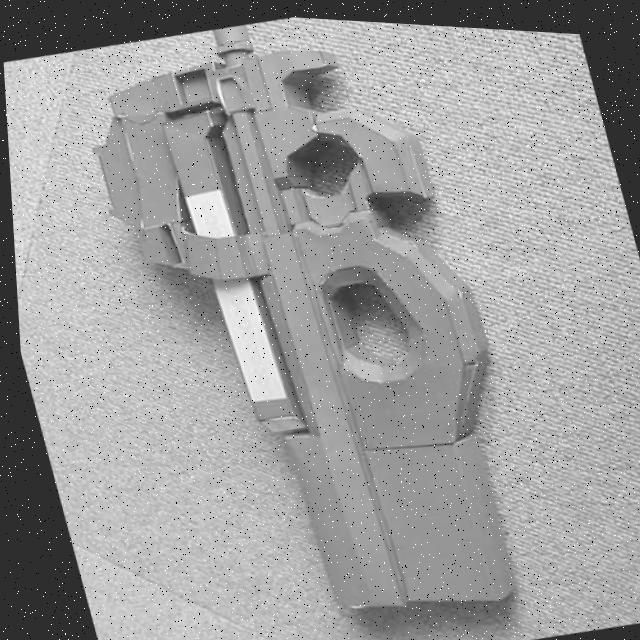firearm: (57, 3, 545, 640)
